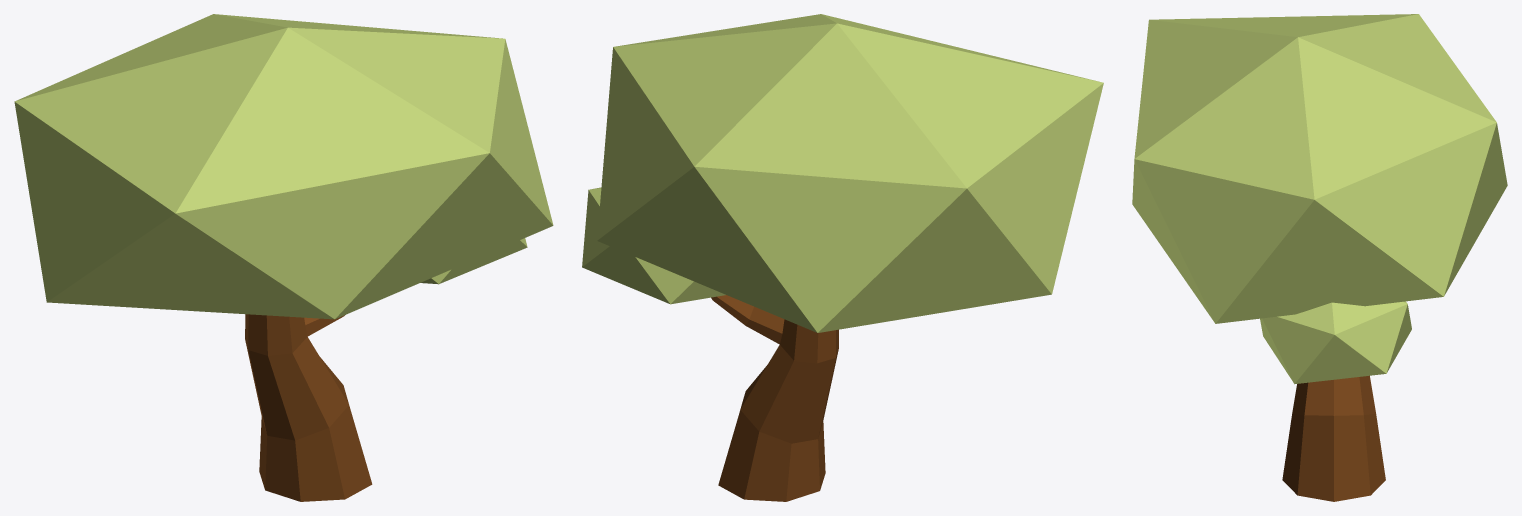
File: quaternius-simple-nature-bush-2.glb
The picture shows the model from 3 angles, left to right: view 1: azimuth 30°, elevation 25°; view 2: azimuth 150°, elevation 25°; view 3: azimuth 270°, elevation 25°; orthographic projection. The views are drawn at different scales.
Parts seen in each view (by area): view 1: Bush2; view 2: Bush2; view 3: Bush2.
Boxes of the visible parts, x1,y1,x2,y2 form: Bush2: (14,14,553,501); Bush2: (582,14,1103,501); Bush2: (1132,14,1507,501).
Bounding box in the file's own units: 0.9968 × 0.9567 × 0.7714.
